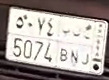0: (23, 20, 33, 59)
4: (43, 16, 56, 63)
5: (11, 16, 24, 58)
7: (33, 15, 45, 61)
B: (59, 24, 70, 63)
J: (80, 26, 93, 66)
N: (69, 25, 81, 64)
